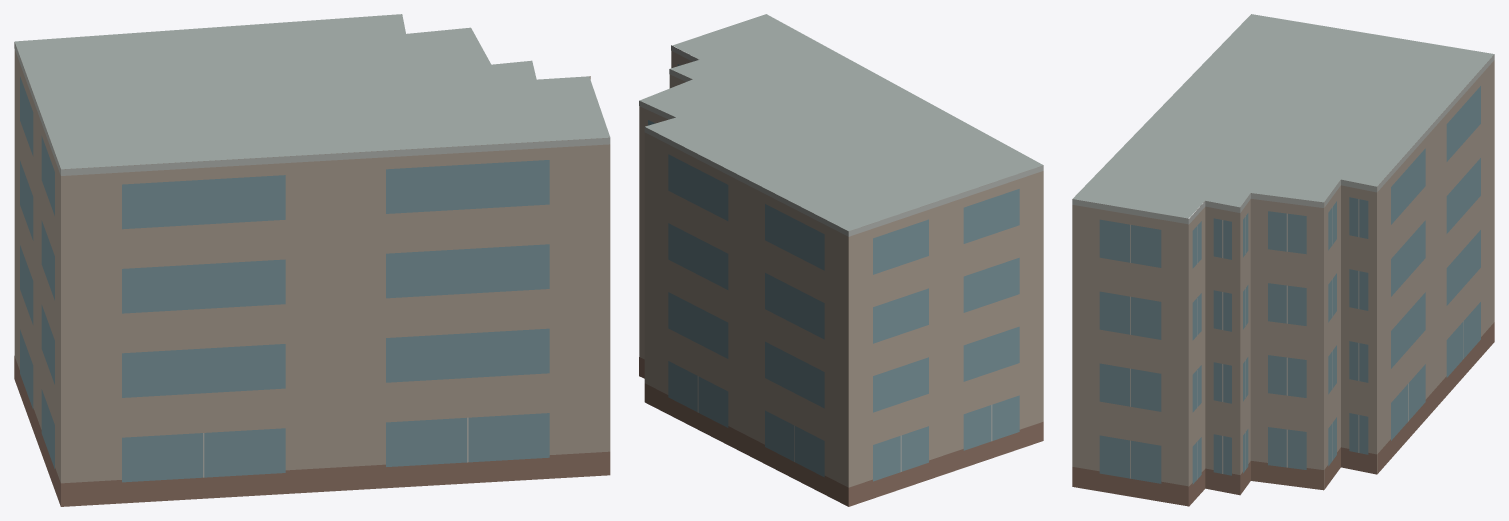
File: survey-upis-33046048.glb
3 views of the same model, side by side, from view 1: azimuth 30°, elevation 25°; view 2: azimuth 150°, elevation 25°; view 3: azimuth 270°, elevation 25° (orthographic). The views are drawn at different scales.
Parts seen in each view (by area): view 1: survey-upis-33046048.tmp; view 2: survey-upis-33046048.tmp; view 3: survey-upis-33046048.tmp.
Part boxes in pixels (left/top/right/bottom): survey-upis-33046048.tmp: left=14, top=14, right=610, bottom=506; survey-upis-33046048.tmp: left=639, top=14, right=1043, bottom=506; survey-upis-33046048.tmp: left=1072, top=14, right=1494, bottom=506.
Size of the model in its own units: 18.65 by 12.2 by 16.23.
